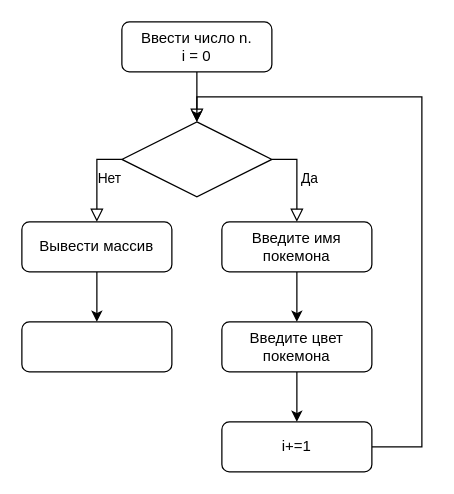
Image size: 454x494. Some labels were removed from this diagram. The shapes that lost their labels are listed below. From the top down, each one's centre as x and y in pixels, then its label:
At point (196, 159): "i < n".
At point (96, 346): "Конец".
